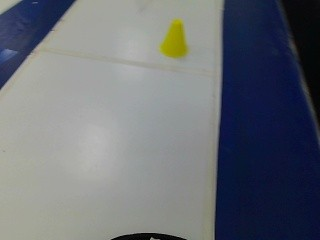cone: (159, 19, 193, 63)
